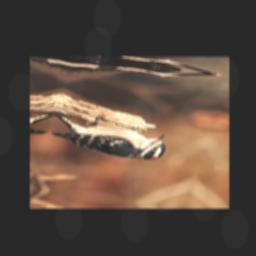Woodpecker: (46, 107, 179, 164)
